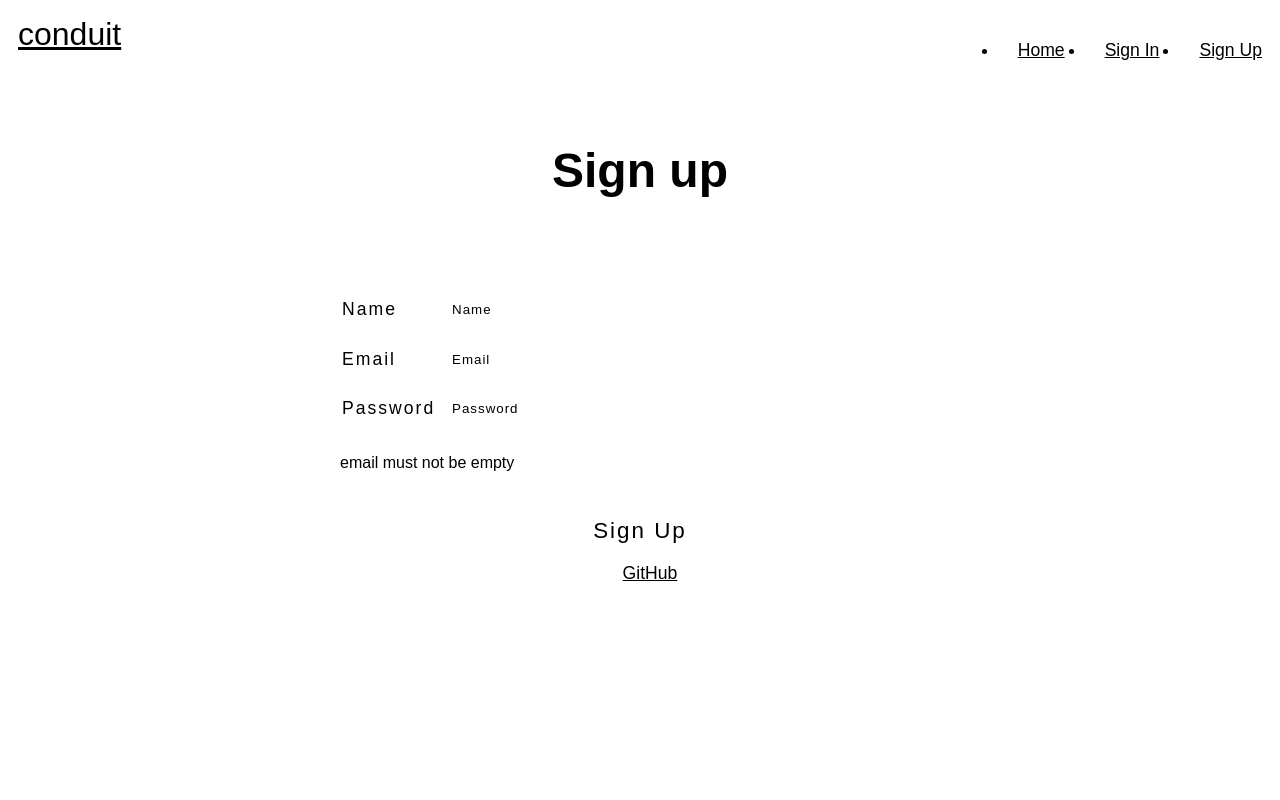
Scenario: SignUp page › form › shows warning on invalid value input blur
In the field named "email": x=692, y=360 [442,345,942,374], type "1111"
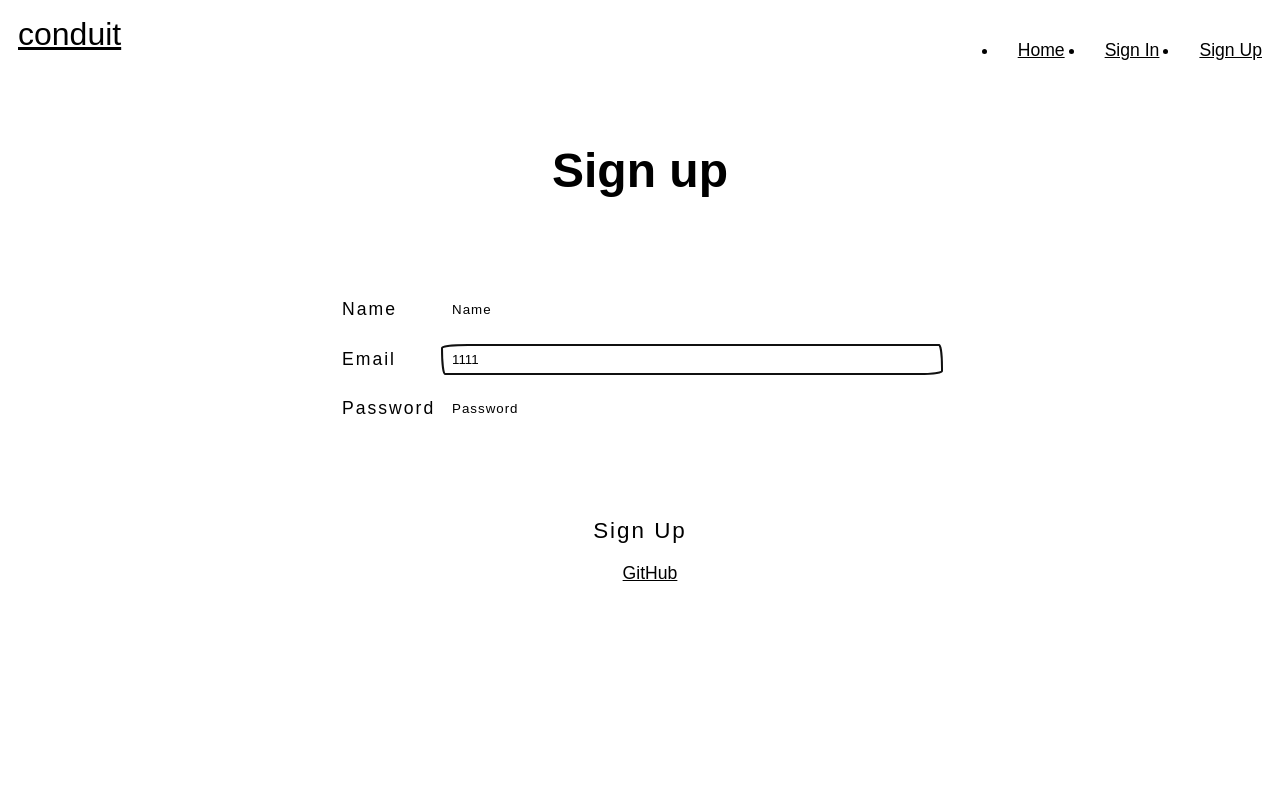
Leave the field named "email", box [442,345,942,374]
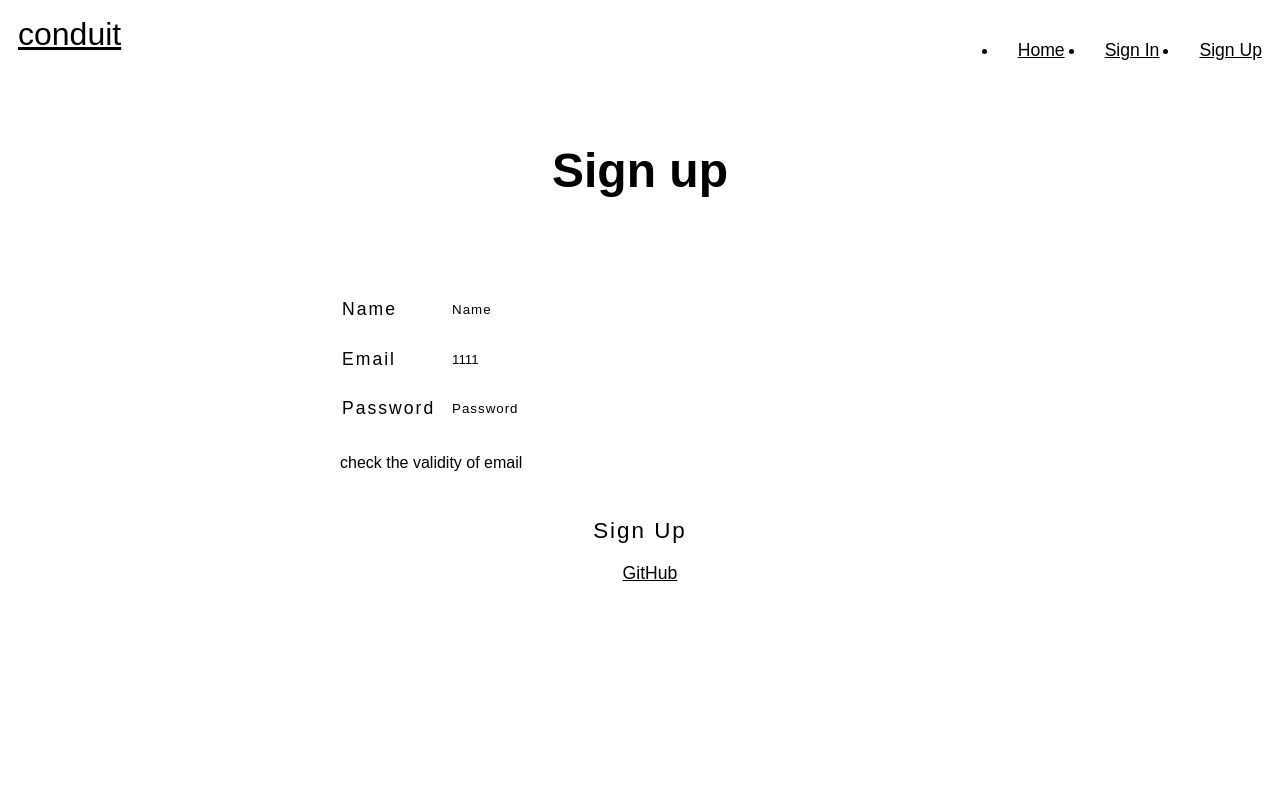
Check: the text "check the validity of email" is shown, box [340,454,522,471]
